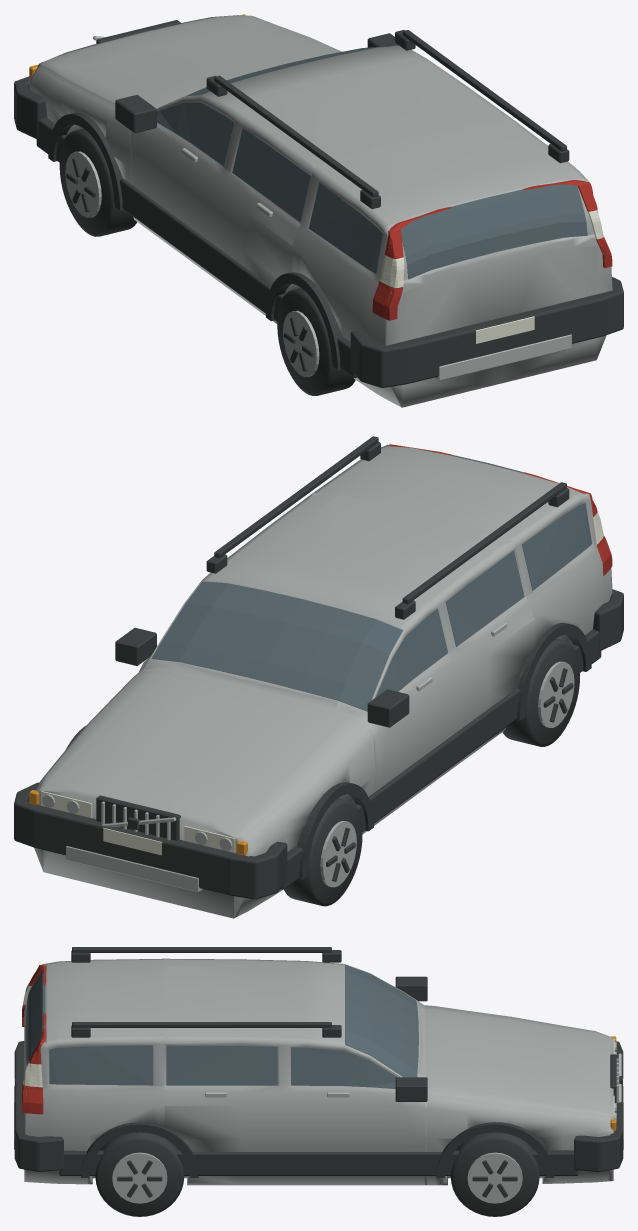
The model's file is xc70-civilian.glb.
3 views of the same model, one above another, from view 1: azimuth 30°, elevation 25°; view 2: azimuth 150°, elevation 25°; view 3: azimuth 270°, elevation 25° (orthographic). The views are drawn at different scales.
Visible parts, largest first — view 1: body, glass_envelope, bumper_rear, trim_sill, wheel_rl, wheel_fl, lamp_tail, trim_skid_rear, trim_arch.001, trim_arch, trim_roof_rail, trim_roof_rail.001 (+6 smaller); view 2: body, glass_envelope, bumper_front, trim_sill, wheel_fl, wheel_rl, trim_skid_front, trim_arch, trim_arch.001, trim_roof_rail, trim_roof_rail.001, grille (+7 smaller); view 3: body, glass_envelope, trim_sill.001, wheel_fr, wheel_rr, bumper_rear, bumper_front, trim_rim_fr, trim_rim_rr, trim_arch.002, trim_arch.003, trim_roof_rail (+4 smaller).
Boxes of the visible parts, x1,y1,x2,y2 form: body: [28, 15, 612, 407]; glass_envelope: [157, 46, 587, 279]; bumper_rear: [350, 277, 623, 387]; trim_sill: [36, 117, 357, 377]; wheel_rl: [277, 288, 355, 395]; wheel_fl: [59, 128, 136, 236]; lamp_tail: [372, 207, 451, 320]; trim_skid_rear: [435, 334, 571, 380]; trim_arch.001: [266, 272, 342, 369]; trim_arch: [48, 112, 123, 210]; trim_roof_rail: [214, 75, 378, 197]; trim_roof_rail.001: [402, 30, 566, 151]; body: [28, 444, 612, 918]; glass_envelope: [147, 454, 591, 711]; bumper_front: [14, 782, 287, 899]; trim_sill: [280, 629, 601, 889]; wheel_fl: [284, 798, 362, 906]; wheel_rl: [502, 639, 579, 746]; trim_skid_front: [66, 846, 202, 892]; trim_arch: [297, 782, 373, 880]; trim_arch.001: [516, 622, 591, 720]; trim_roof_rail: [402, 482, 566, 603]; trim_roof_rail.001: [214, 436, 378, 557]; grille: [96, 795, 180, 840]; body: [24, 958, 613, 1185]; glass_envelope: [26, 965, 418, 1088]; trim_sill.001: [59, 1150, 578, 1175]; wheel_fr: [450, 1132, 539, 1216]; wheel_rr: [95, 1132, 184, 1216]; bumper_rear: [14, 1041, 63, 1171]; bumper_front: [574, 1041, 623, 1171]; trim_rim_fr: [467, 1152, 522, 1203]; trim_rim_rr: [112, 1152, 167, 1203]; trim_arch.002: [436, 1122, 553, 1177]; trim_arch.003: [81, 1122, 198, 1177]; trim_roof_rail: [72, 947, 331, 952].
Size of the model in its own units: 2.02 by 1.56 by 4.74.
